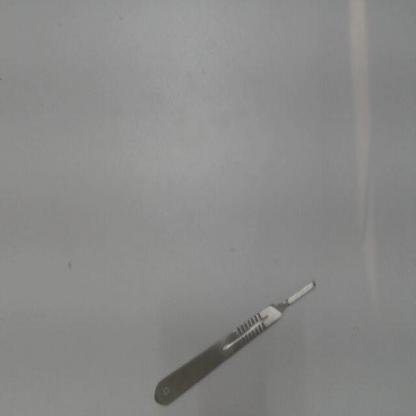No.4 BP Handle: (143, 263, 333, 414)
